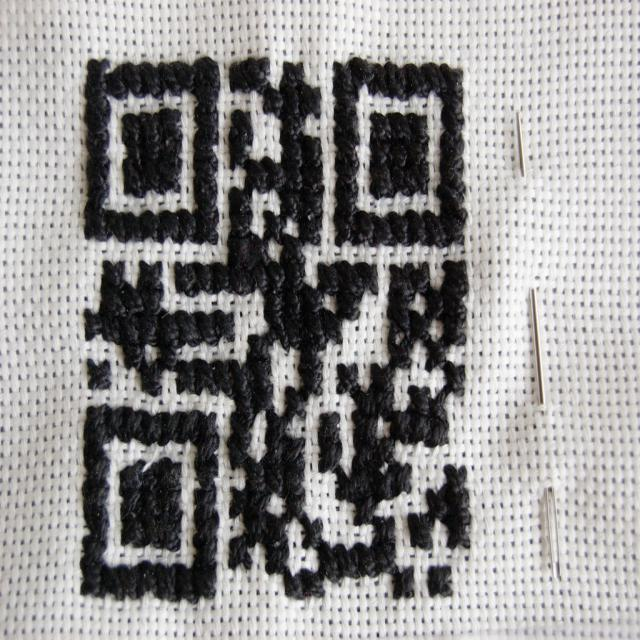qrcode: (81, 60, 470, 602)
